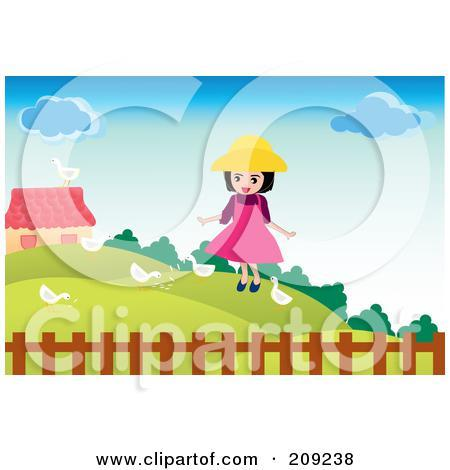bird: (46, 154, 86, 189), (127, 259, 163, 292), (265, 273, 297, 310), (181, 252, 217, 282), (76, 228, 117, 254), (36, 280, 71, 310)
person: (192, 134, 301, 293)
